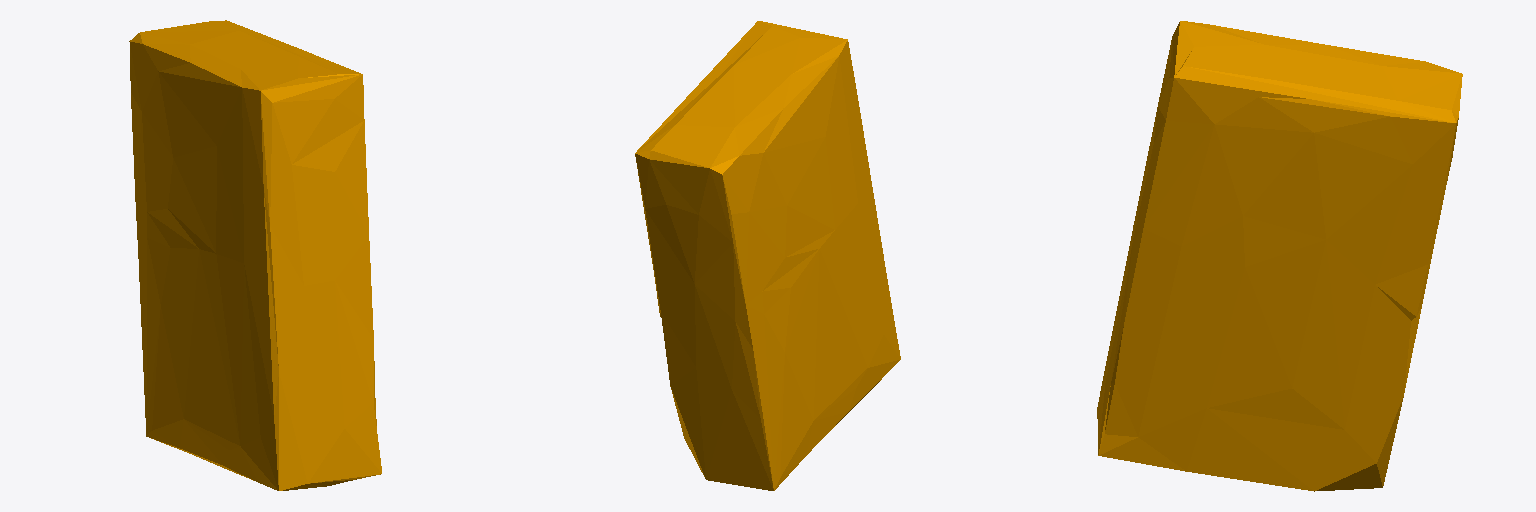
URDF robot description (PotatoeStarch_800_tex):
<?xml version="1.0"?>
<robot name="PotatoeStarch_800_tex">
  <link name="base_link">
    <contact>
      <lateral_friction value="1.0"/>
      <rolling_friction value="0.0"/>
      <contact_cfm value="0.0"/>
      <contact_erp value="1.0"/>
    </contact>
    <inertial>
      <mass value="0.0216125086216"/>
      <inertia ixx="1" ixy="0" ixz="0" iyy="1" iyz="0" izz="1"/>
    </inertial>
    <visual>
      <geometry>
        <mesh filename="PotatoeStarch_800_tex_visual.obj"/>
      </geometry>
    </visual>
    <collision>
      <geometry>
        <mesh filename="PotatoeStarch_800_tex_collision.obj"/>
      </geometry>
    </collision>
  </link>
</robot>

--- Facts derived from the render (not from the file) ---
Views: 3 orthographic renders of the robot side by side, from view 1: azimuth 30°, elevation 25°; view 2: azimuth 150°, elevation 25°; view 3: azimuth 270°, elevation 25°.
Model PotatoeStarch_800_tex with 1 links and 0 joints (none), rooted at base_link, posed every joint at zero.
Visible links, largest first — view 1: base_link; view 2: base_link; view 3: base_link.
Boxes of the visible links, x1,y1,x2,y2 form: base_link: [129, 20, 381, 490]; base_link: [635, 21, 900, 490]; base_link: [1097, 21, 1462, 491].
Size in the robot's own frame: 0.0184 by 0.0451 by 0.0598 metres.
Meshes: 1 distinct files referenced, 1 mesh visuals loaded (1 OBJ).